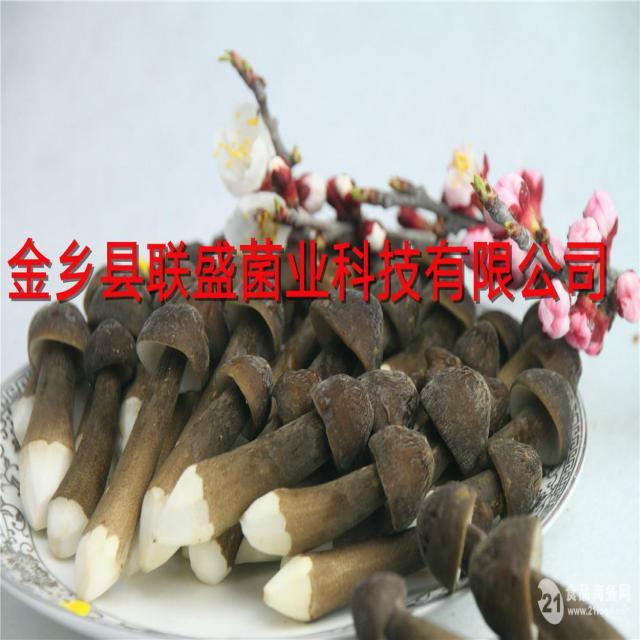Collybia albuminosa: (76, 300, 209, 604), (154, 370, 375, 540), (139, 361, 272, 576), (247, 426, 431, 550), (473, 509, 625, 640), (24, 305, 84, 529), (496, 372, 576, 472), (296, 281, 371, 377), (419, 377, 490, 468), (221, 293, 283, 361)
